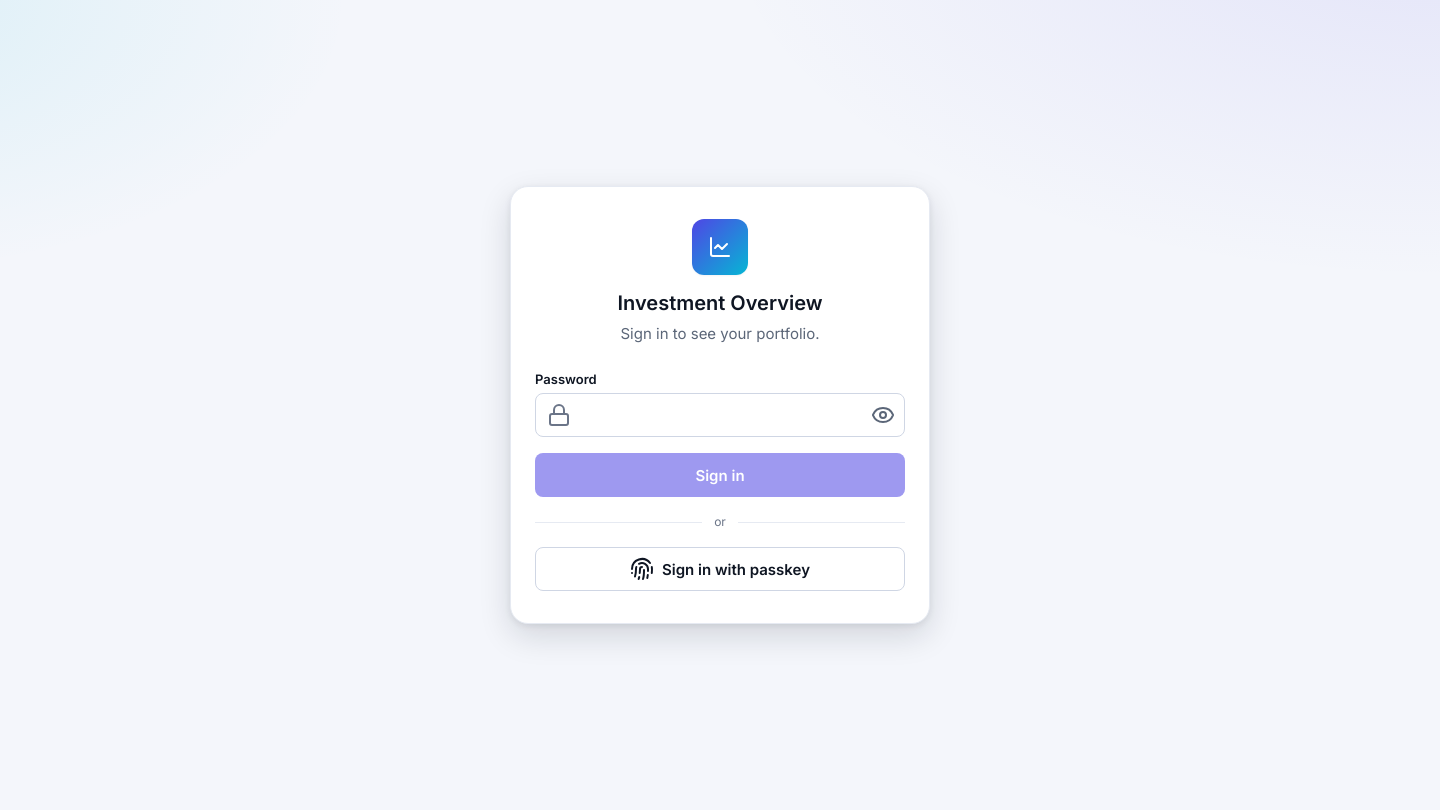
Test: Login › shows an offline message when fetch fails
This screenshot has width=1440, height=810.
Type "x" into the password field labelled "Password" at (720, 415), box [535, 393, 905, 437]
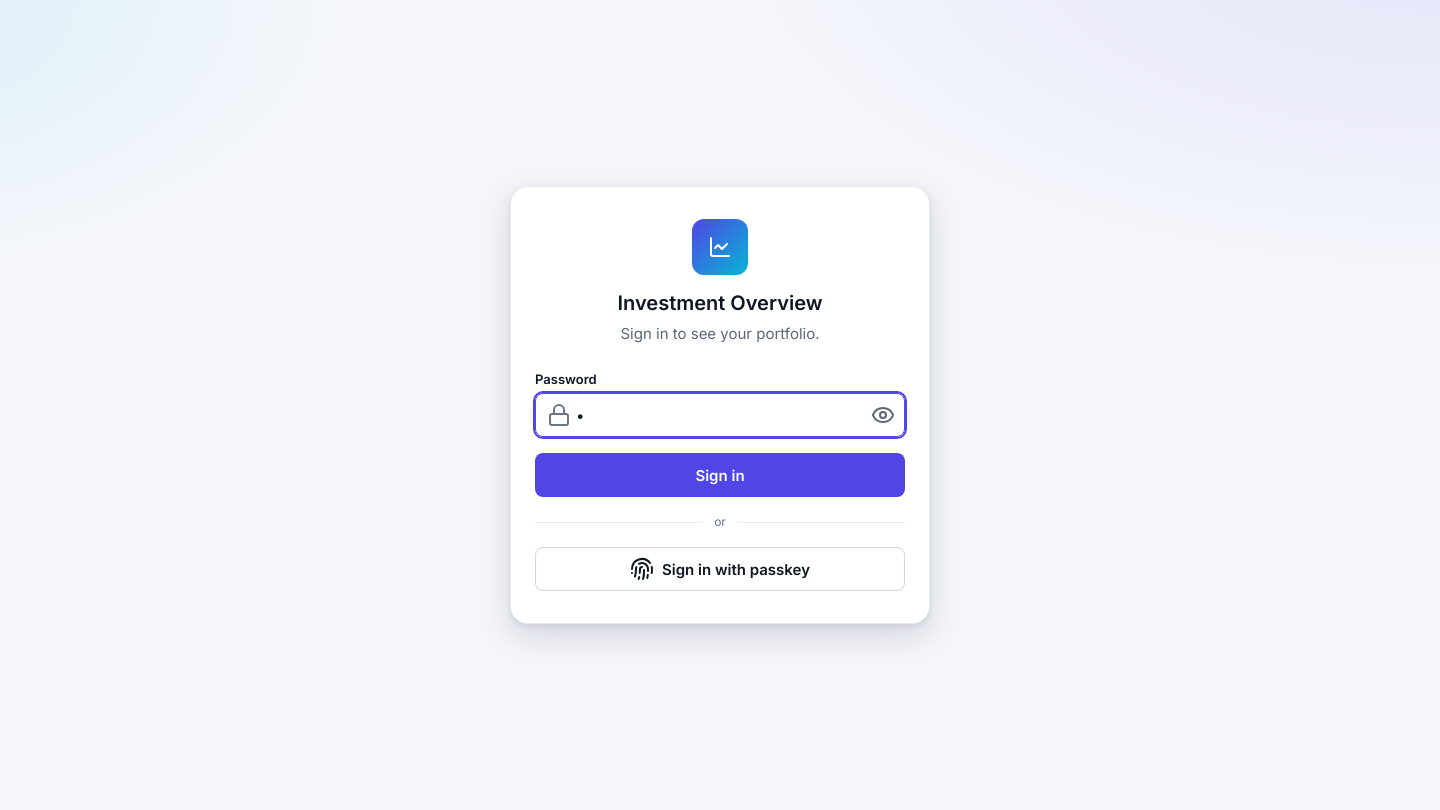
Click the button "Sign in" at (720, 475), box [535, 453, 905, 497]
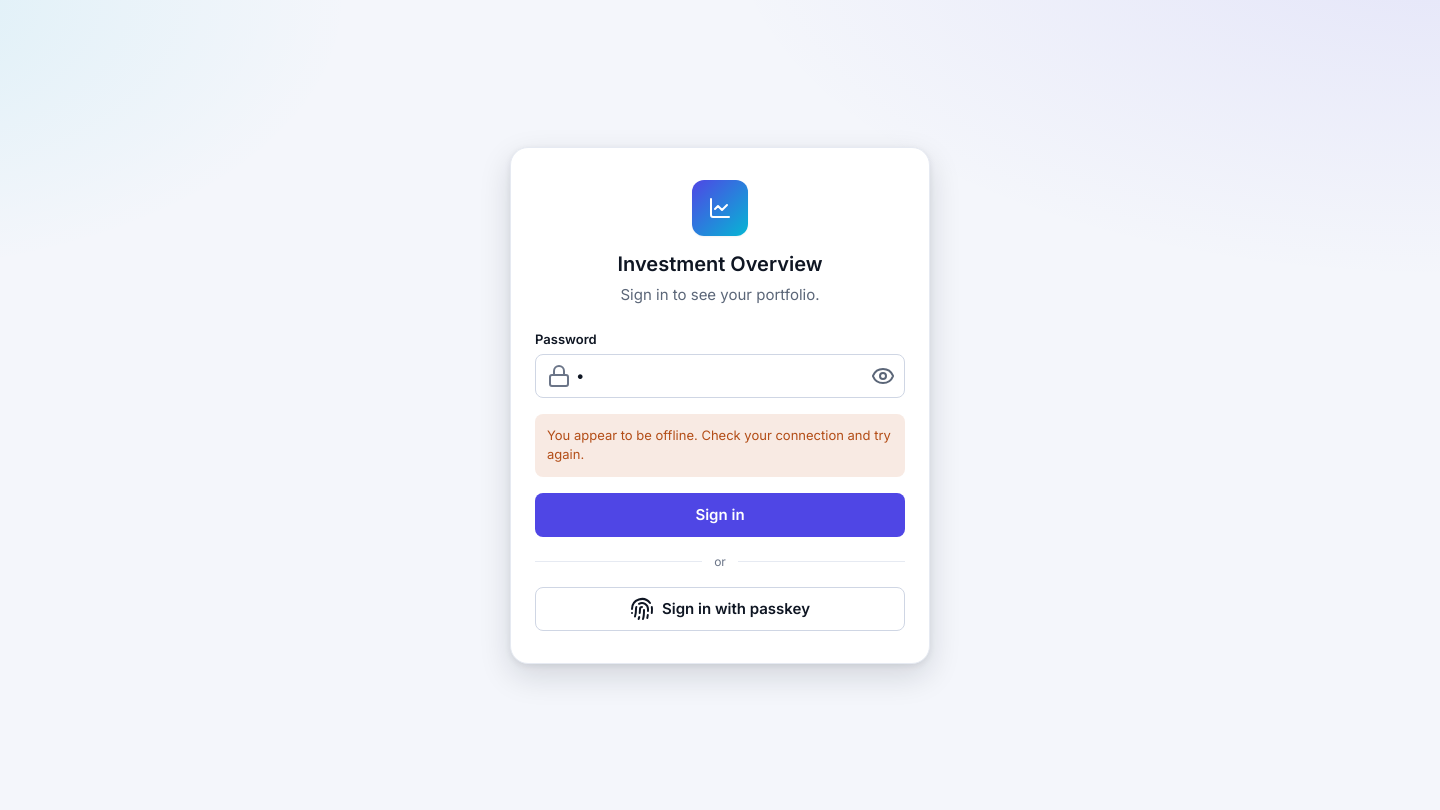
Result: the message shows "offline" at [547, 426, 891, 462]
